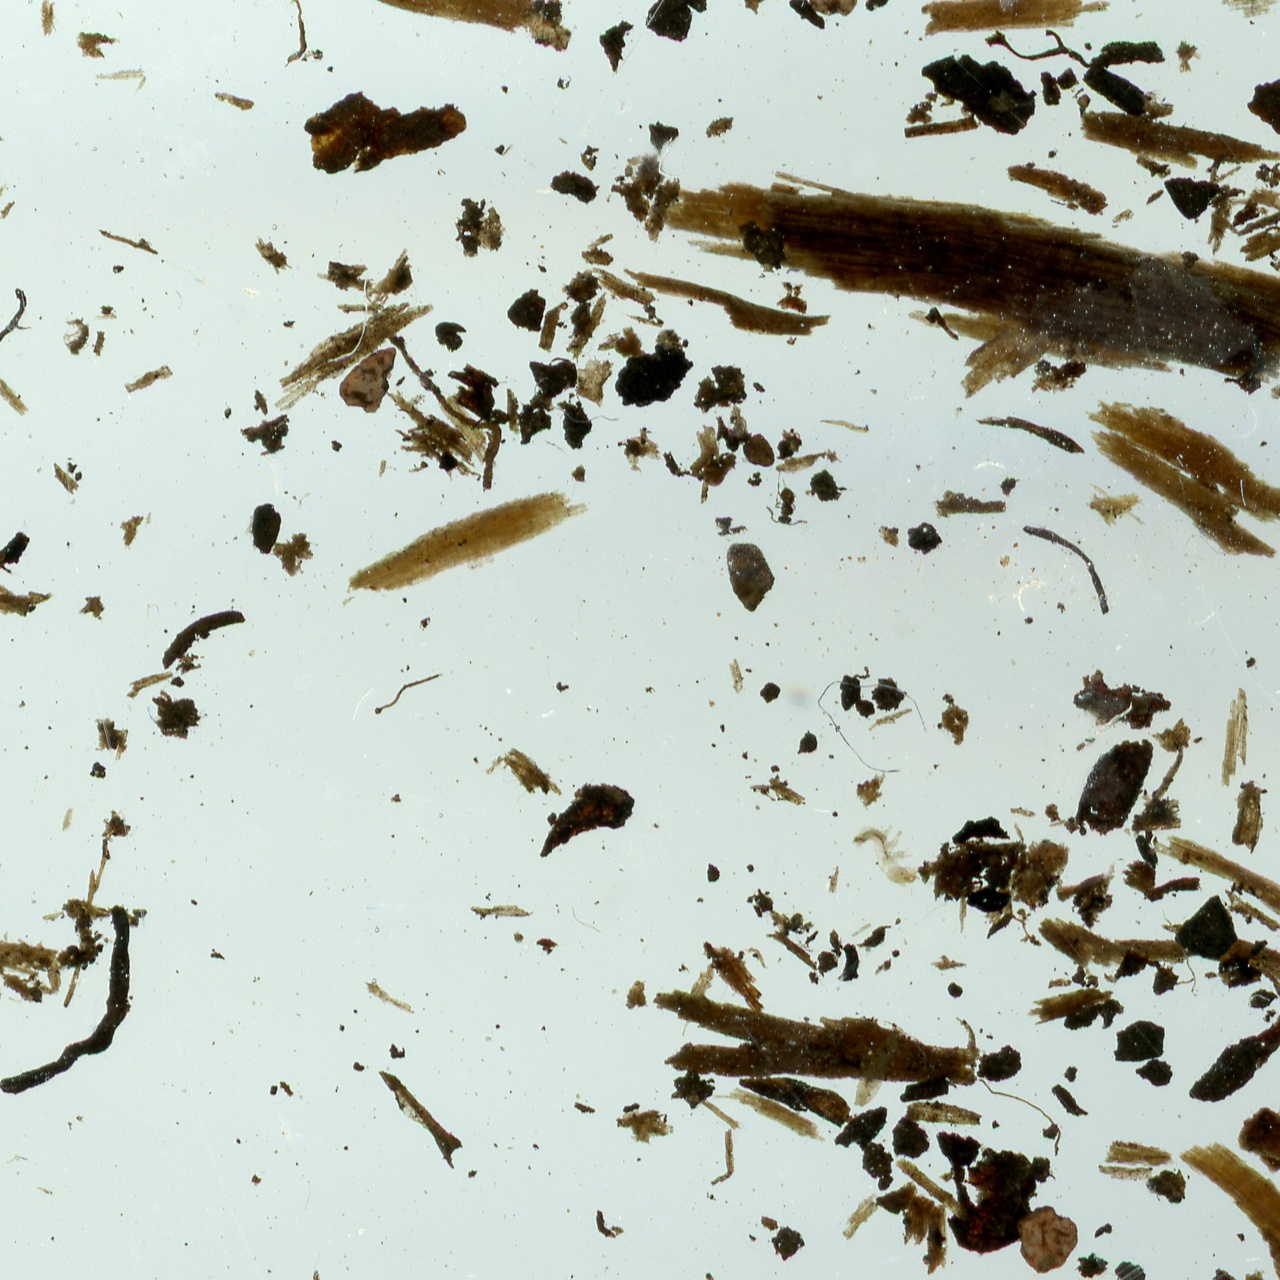arthropod: (849, 821, 921, 890), (764, 470, 810, 530)
